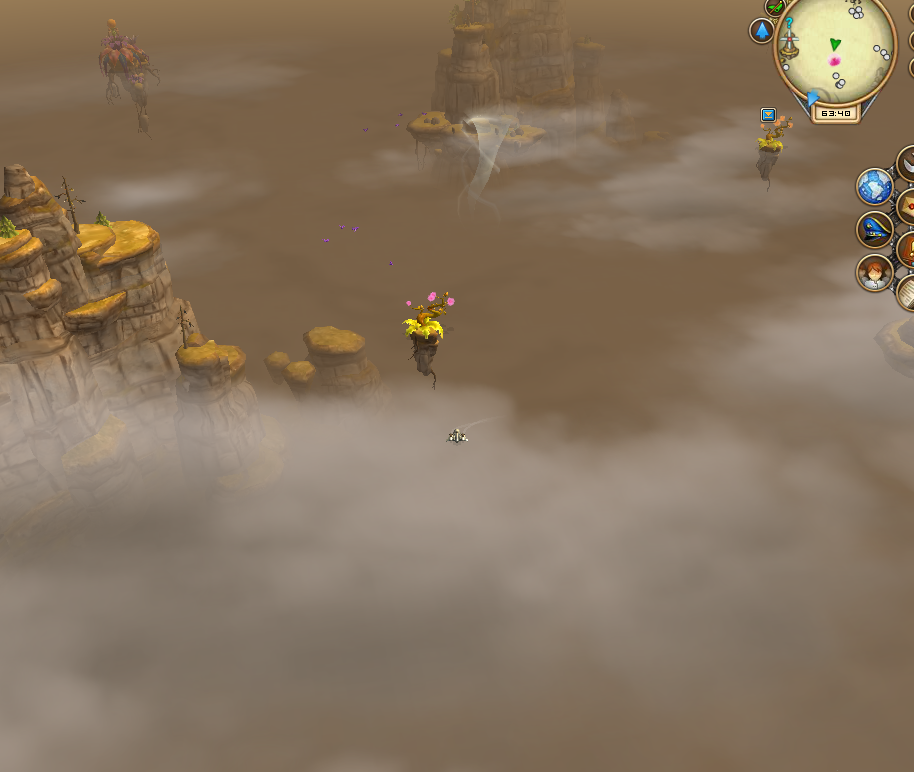dandelion-full: (390, 282, 460, 359), (747, 106, 799, 164)
